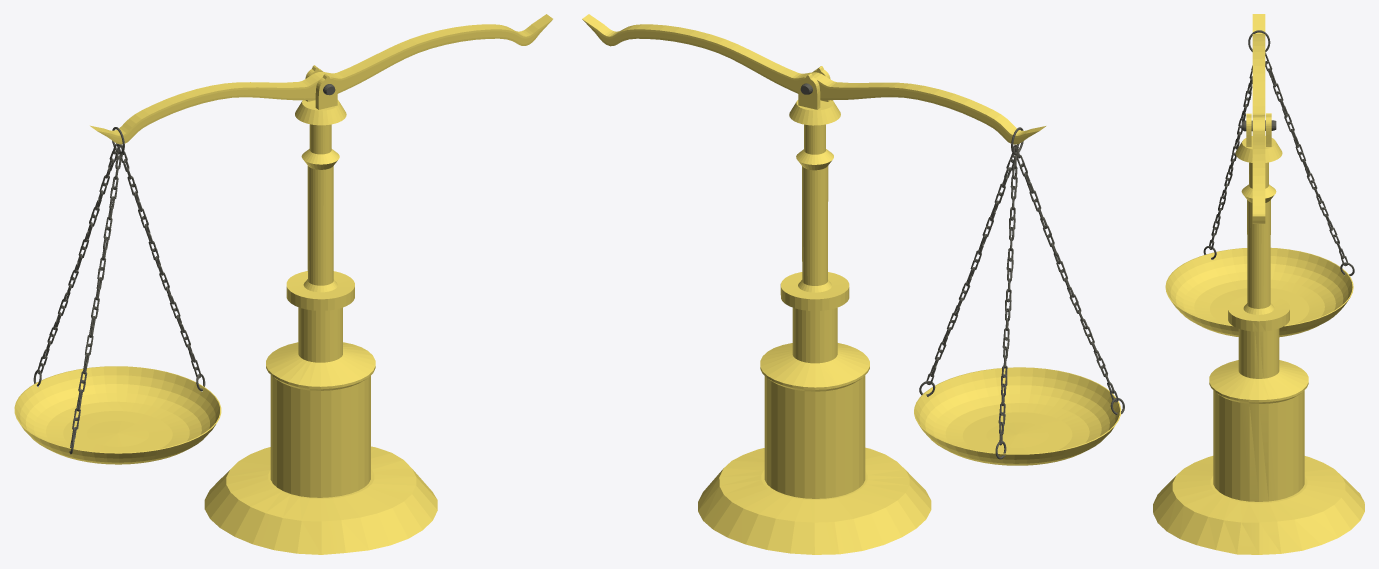
The model's file is scale lowpoly2.fbx.
3 renders of one model, left to right at view 1: azimuth 30°, elevation 25°; view 2: azimuth 150°, elevation 25°; view 3: azimuth 270°, elevation 25°, orthographic. The views are drawn at different scales.
Visible parts, largest first — view 1: Body.003, Body.005, Body.001; view 2: Body.003, Body.005, Body.001; view 3: Body.003, Body.005, Body.001.
Boxes of the visible parts, bbox=[...] form: Body.003: bbox=[204, 65, 437, 554]; Body.005: bbox=[14, 127, 221, 464]; Body.001: bbox=[90, 14, 552, 144]; Body.003: bbox=[698, 66, 931, 554]; Body.005: bbox=[914, 127, 1124, 465]; Body.001: bbox=[582, 14, 1045, 144]; Body.003: bbox=[1153, 113, 1364, 554]; Body.005: bbox=[1165, 30, 1354, 337]; Body.001: bbox=[1252, 14, 1265, 223].
Bounding box in the file's own units: 886 × 723 × 343.
